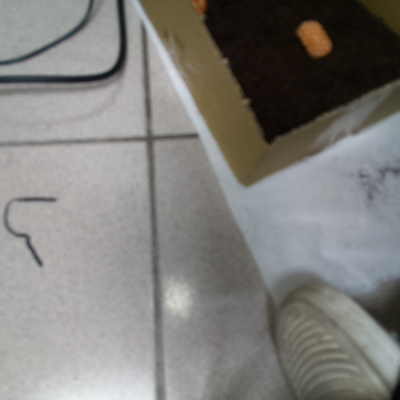eggs: (291, 15, 338, 64)
